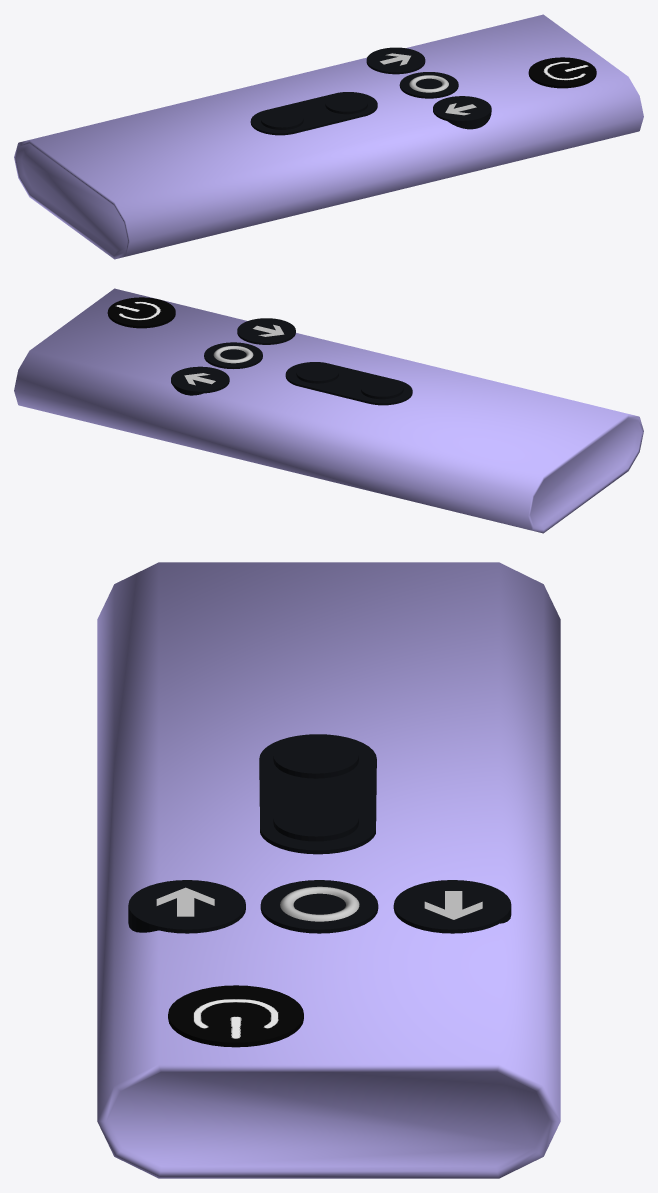
Rendered from RemoteBody.fbx.
The picture shows the model from 3 angles, top to bottom: view 1: azimuth 30°, elevation 25°; view 2: azimuth 150°, elevation 25°; view 3: azimuth 270°, elevation 25°; orthographic projection. The views are drawn at different scales.
Parts seen in each view (by area): view 1: 柱体.002; view 2: 柱体.002; view 3: 柱体.002.
Boxes of the visible parts, left/top/right/bottom form: 柱体.002: left=14, top=14, right=643, bottom=259; 柱体.002: left=14, top=288, right=643, bottom=533; 柱体.002: left=97, top=562, right=560, bottom=1178.
Bounding box in the file's own units: 1333 × 520 × 199.
4 materials, 1 textured.
